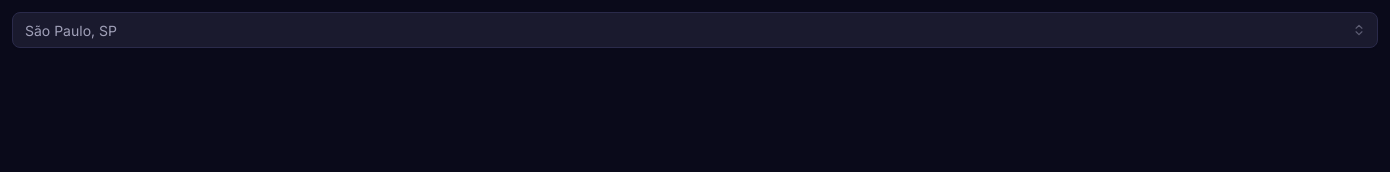
CityCombobox › validação — cidade válida › não marca aria-invalid para município válido
Step 1. Type "Curitiba, PR" into the field with placeholder "São Paulo, SP" → (695, 30), box [12,12,1378,48]
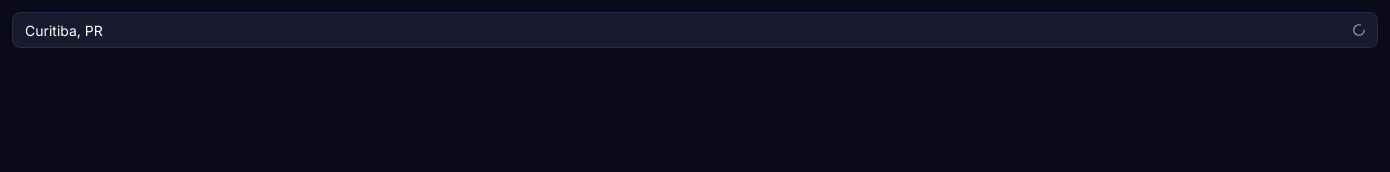
Step 2. Leave the field with placeholder "São Paulo, SP", box [12,12,1378,48]
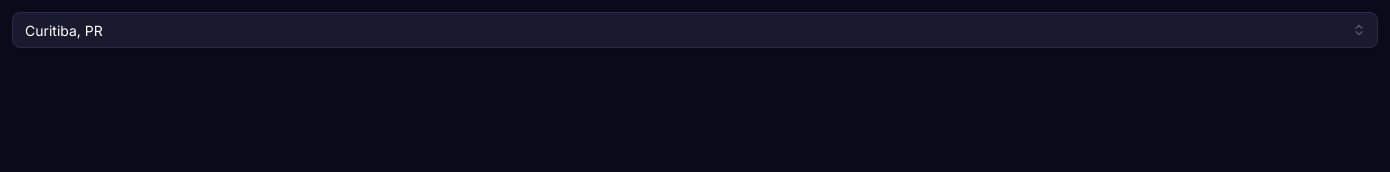
expect the field with placeholder "São Paulo, SP" does not have attribute aria-invalid="true": met, box [12,12,1378,48]
